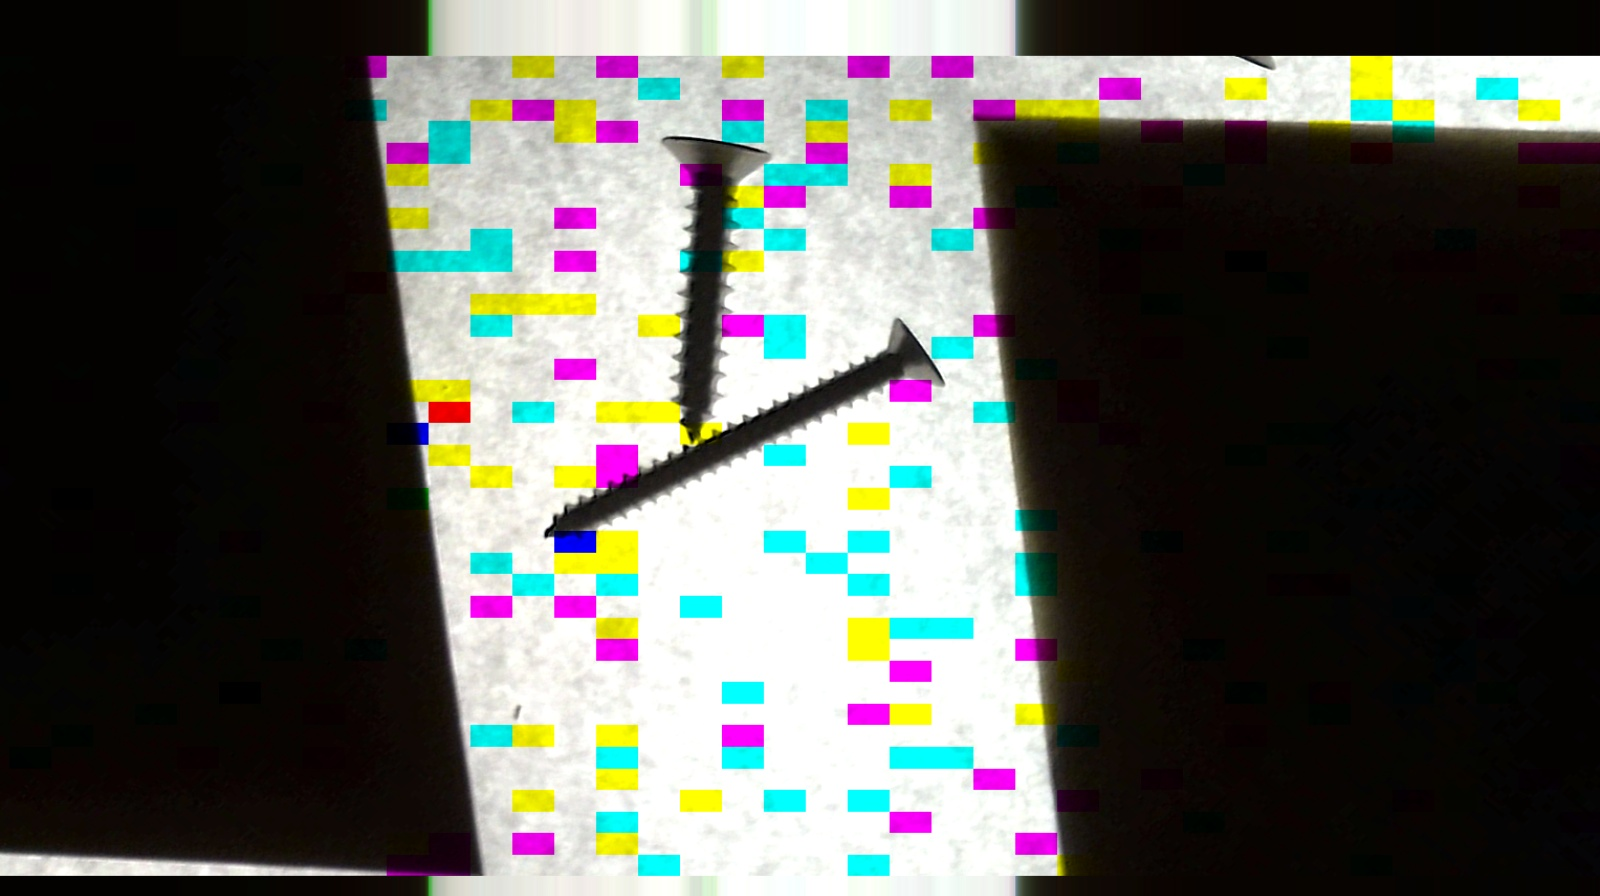S001: (492, 90, 897, 452)
S002: (533, 252, 966, 649)
